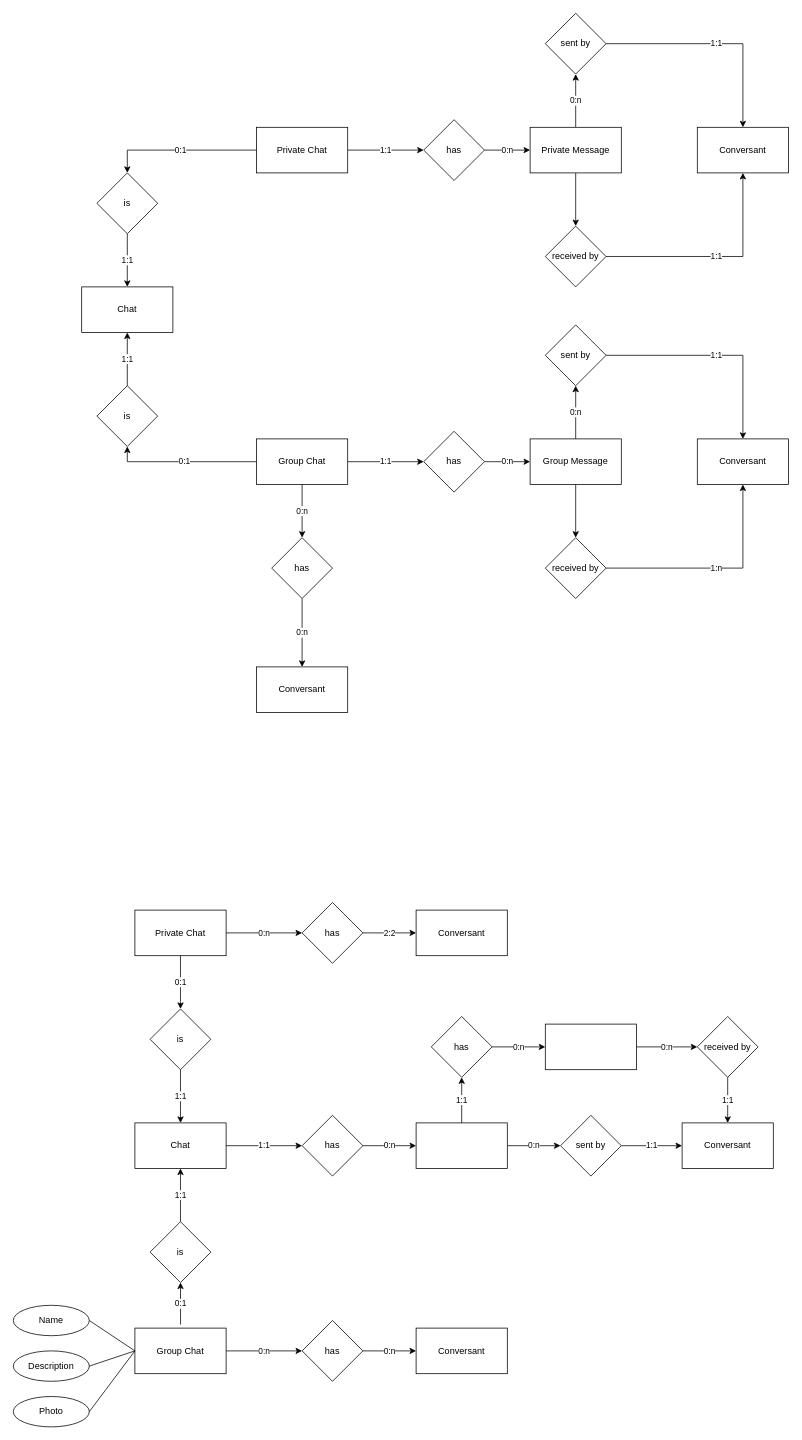
Some shapes in this 802 by 1440 pixel diagram are drawn without their labels. Here are the shapes that lost their labels. From the top down, the box of each, then its label:
(545, 1023, 636, 1070): Message Receiver
(415, 1122, 507, 1168): Message
